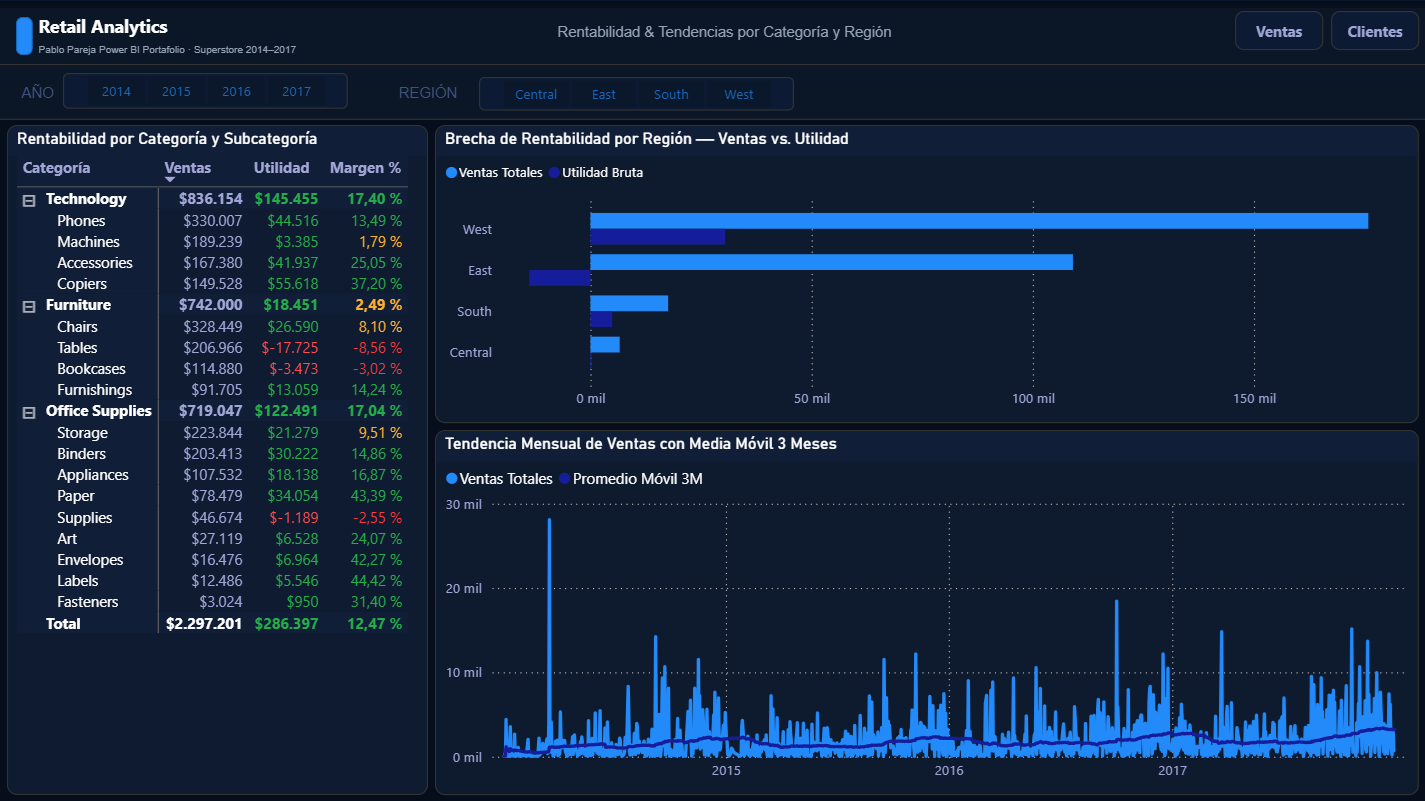

This screenshot's page, from the dashboard's own definition file:
{"tool":"powerbi","page":{"name":"Análisis de Ventas","canvas":[1280,720],"ordinal":1},"visuals":[{"type":"group","id":"g1","title":"Grupo 1","box":[0,0,1279.7,720],"z":0},{"type":"shape","box":[0,0,1279.7,720],"z":0,"group":"g1"},{"type":"pivotTable","title":"Rentabilidad por Categoría y Subcategoría","fields":{"Rows":["DimProducto.Category","DimProducto.Sub-Category"],"Values":["_Medidas.Ventas Totales","_Medidas.Utilidad Bruta","_Medidas.Margen %"]},"box":[8.1,112.8,377,600],"z":1000},{"type":"clusteredBarChart","title":"Brecha de Rentabilidad por Región — Ventas vs. Utilidad","fields":{"Category":["DimRegion.Region"],"Y":["_Medidas.Ventas Totales","_Medidas.Utilidad Bruta"]},"box":[391.3,112.8,881.2,266.9],"z":2000},{"type":"shape","box":[0,7.8,1280,50],"z":2500,"group":"g1"},{"type":"shape","box":[0,7.8,1280,50],"z":3000},{"type":"lineChart","title":"Tendencia Mensual de Ventas con Media Móvil 3 Meses","fields":{"Y":["_Medidas.Ventas Totales","_Medidas.Promedio Móvil 3M"],"Category":["DimCalendario.Date"]},"box":[391.3,386,881.2,326.9],"z":4000},{"type":"actionButton","title":"Ventas","box":[1107.8,10.7,78.8,34.9],"z":5000},{"type":"actionButton","title":"Ventas","box":[1193.7,10.7,78.8,34.9],"z":6000},{"type":"shape","box":[0,57.8,1280,50],"z":7000},{"type":"textbox","box":[31.1,7.8,140,50],"z":8000},{"type":"slicer","fields":{"Values":["DimCalendario.Año"]},"box":[58.2,66.3,255.2,32.2],"z":9000},{"type":"slicer","fields":{"Values":["DimRegion.Region"]},"box":[430.7,69.9,282.1,30.4],"z":10000},{"type":"textbox","box":[0,70,71.1,31.1],"z":11000},{"type":"shape","box":[15.8,15.8,15,34.2],"z":12000},{"type":"textbox","box":[459.4,15.2,382.4,34.9],"z":13000},{"type":"textbox","box":[344.8,69.9,80.6,31.3],"z":14000}]}

Visuals, with their boxes in screenshot pixels (x1, y1, x2, y2), scaled from the page's 1280x720 canvas onto the 1425x801 screenshot:
"Grupo 1" group: left=0, top=0, right=1424, bottom=800
shape: left=0, top=0, right=1424, bottom=800
"Rentabilidad por Categoría y Subcategoría" pivotTable: left=9, top=125, right=429, bottom=793
"Brecha de Rentabilidad por Región — Ventas vs. Utilidad" clusteredBarChart: left=436, top=125, right=1417, bottom=422
shape: left=0, top=9, right=1424, bottom=64
shape: left=0, top=9, right=1424, bottom=64
"Tendencia Mensual de Ventas con Media Móvil 3 Meses" lineChart: left=436, top=429, right=1417, bottom=793
"Ventas" actionButton: left=1233, top=12, right=1321, bottom=51
"Ventas" actionButton: left=1329, top=12, right=1417, bottom=51
shape: left=0, top=64, right=1424, bottom=120
textbox: left=35, top=9, right=190, bottom=64
slicer - DimCalendario.Año: left=65, top=74, right=349, bottom=110
slicer - DimRegion.Region: left=479, top=78, right=794, bottom=112
textbox: left=0, top=78, right=79, bottom=112
shape: left=18, top=18, right=34, bottom=56
textbox: left=511, top=17, right=937, bottom=56
textbox: left=384, top=78, right=474, bottom=113
